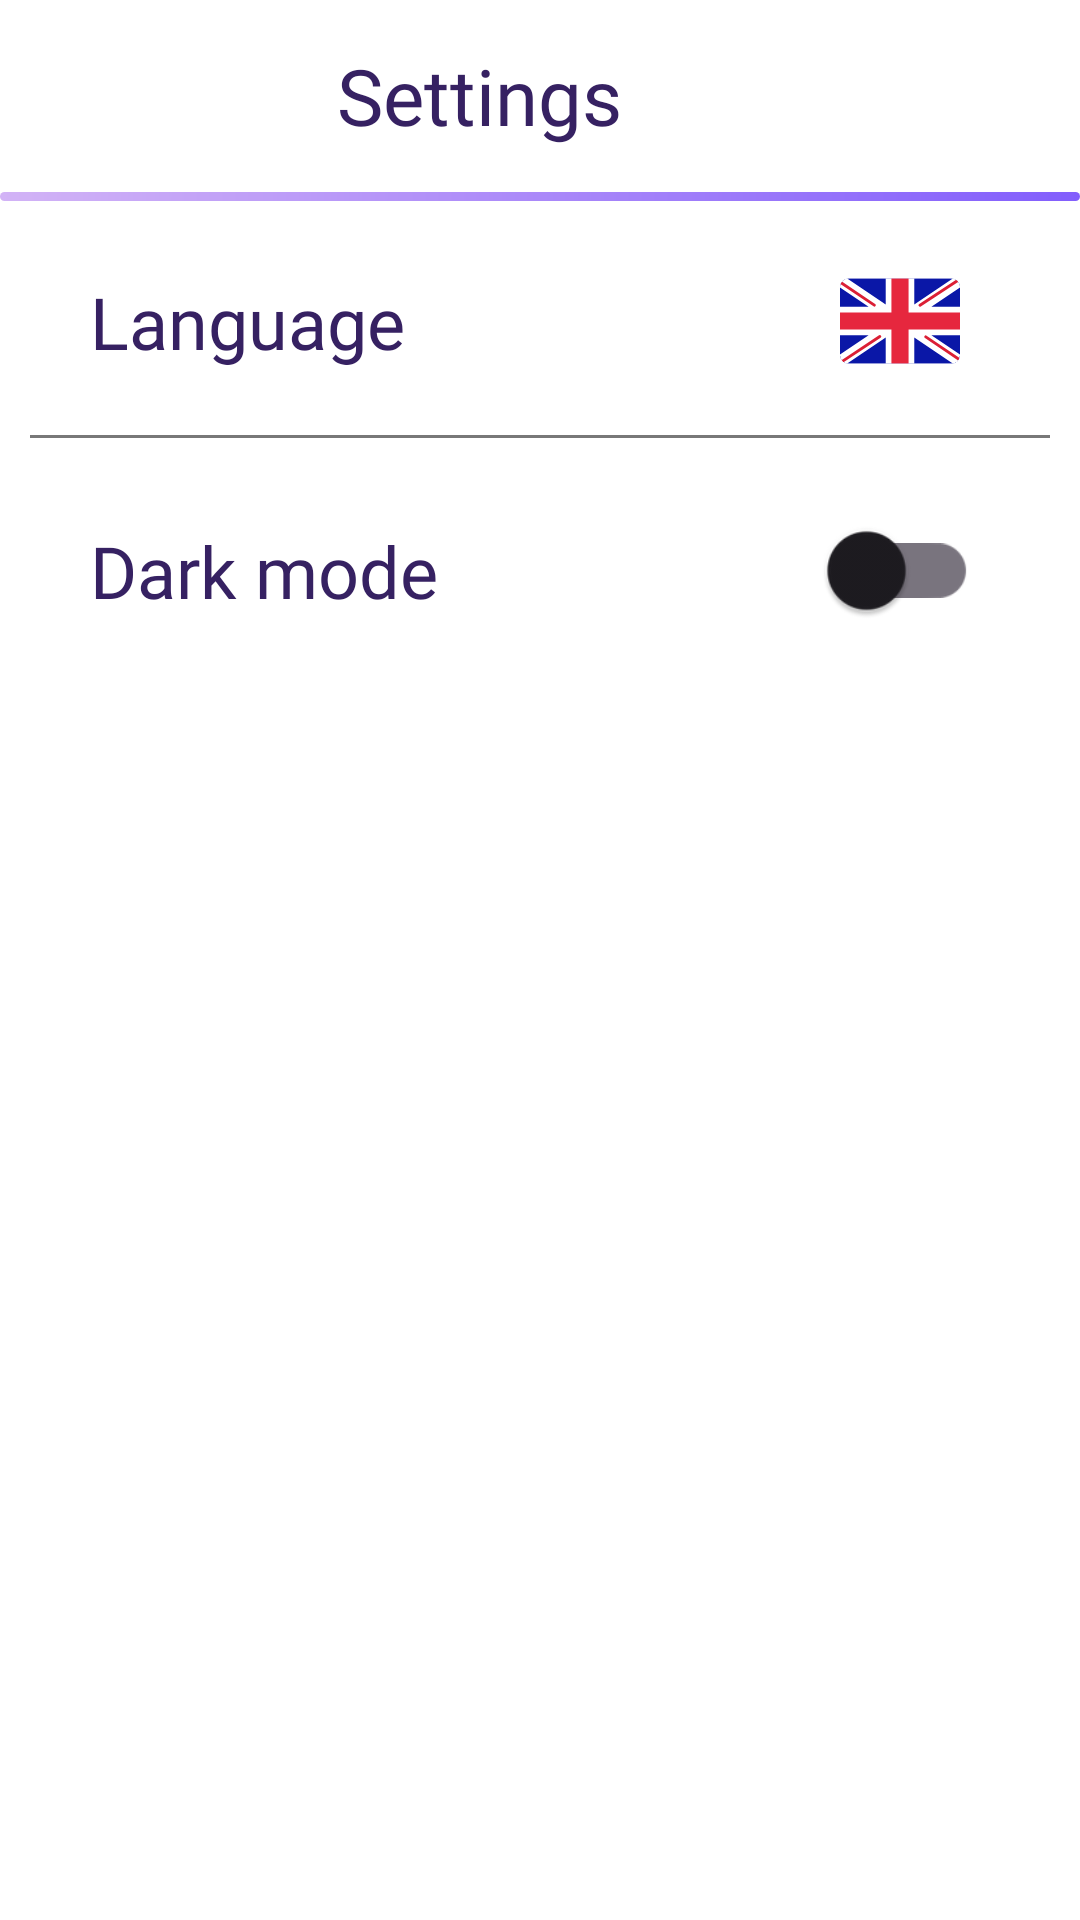

Icon bounding boxes for this 1080 x 1920 phone screenshot, format (x1, y1, x2, y2):
Language Icon: (840, 278, 960, 364)
